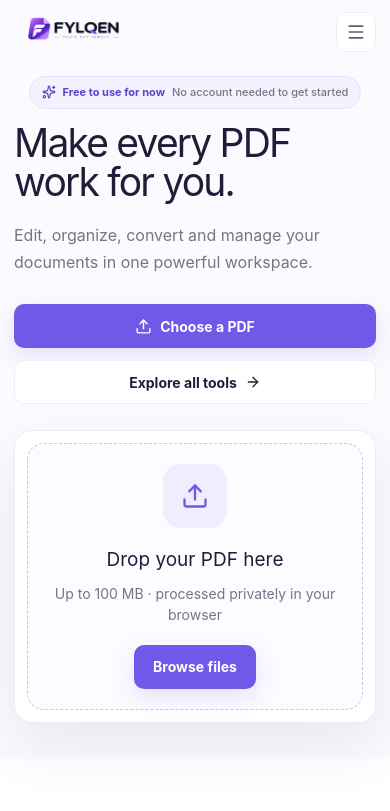
Scenario: Fylqen routes › opens the mobile navigation with an All tools link
Click the button named "Open menu" at (356, 32), box [336,12,376,52]
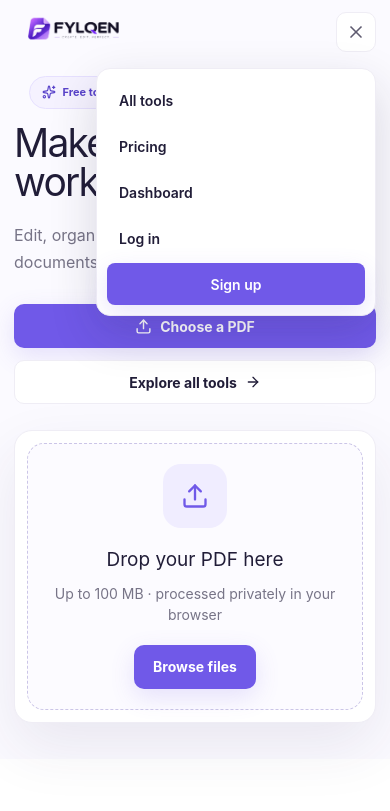
Expected: the button named "Close menu" is expanded, [336,12,376,52]
Expected: the number of links "All tools" is 2
